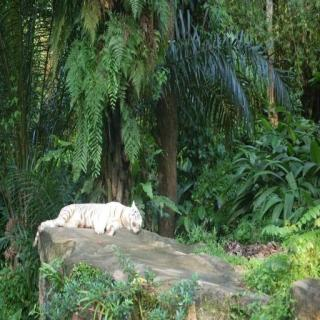Tiger: (30, 192, 145, 242)
